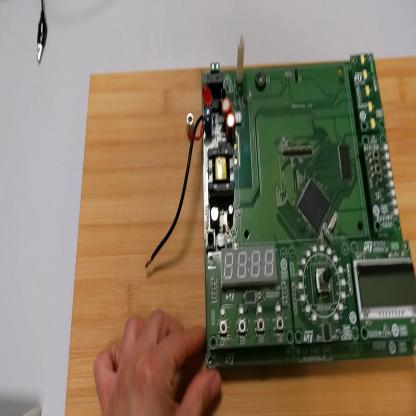hand: (95, 313, 225, 416)
low voltage board: (146, 41, 415, 375)
working area: (73, 65, 416, 414)
